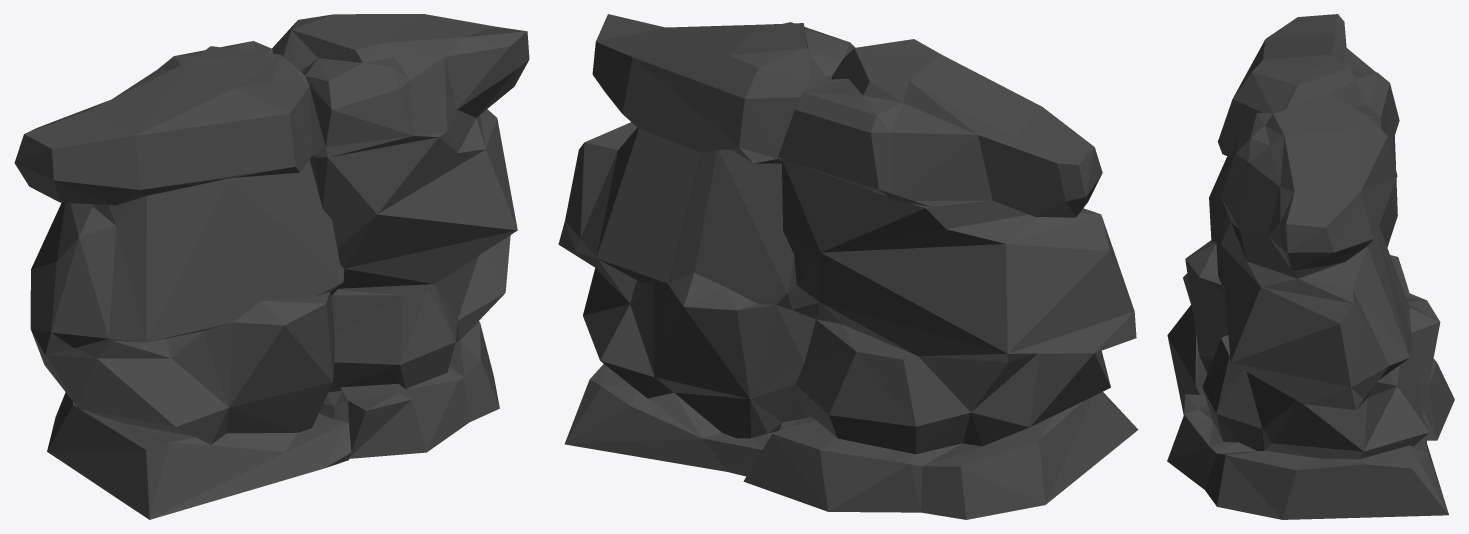
The model's file is rock__rockform_wall_short2_dark.glb.
3 views of the same model, side by side, from view 1: azimuth 30°, elevation 25°; view 2: azimuth 150°, elevation 25°; view 3: azimuth 270°, elevation 25° (orthographic). The views are drawn at different scales.
Visible parts, largest first — view 1: rockform.wall.short2.dark; view 2: rockform.wall.short2.dark; view 3: rockform.wall.short2.dark.
Part boxes in pixels (box(x1,y1,x2,y2)): rockform.wall.short2.dark: box(14, 14, 529, 519); rockform.wall.short2.dark: box(558, 14, 1138, 519); rockform.wall.short2.dark: box(1167, 14, 1454, 519).
Size of the model in its own units: 21.76 by 15.35 by 11.56.
Materials: 1 (1 with a texture image).
